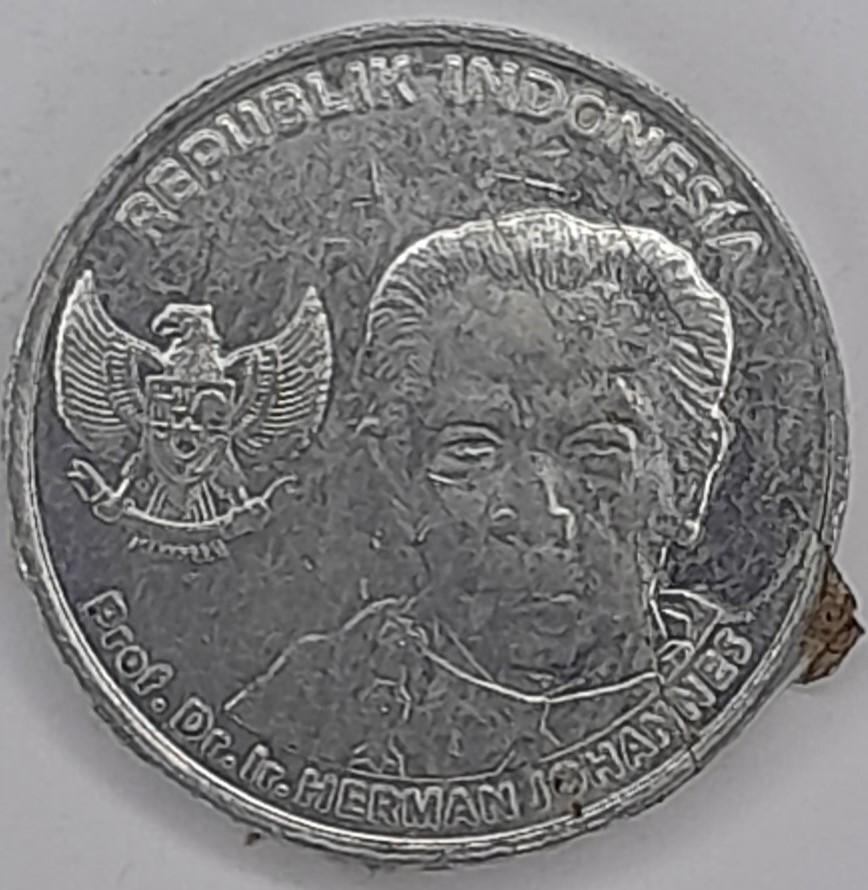coin_100_e2016: (0, 13, 867, 872)
